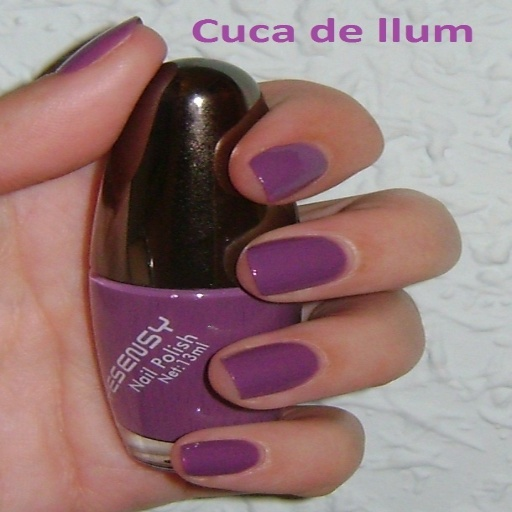hand: (0, 12, 463, 510)
